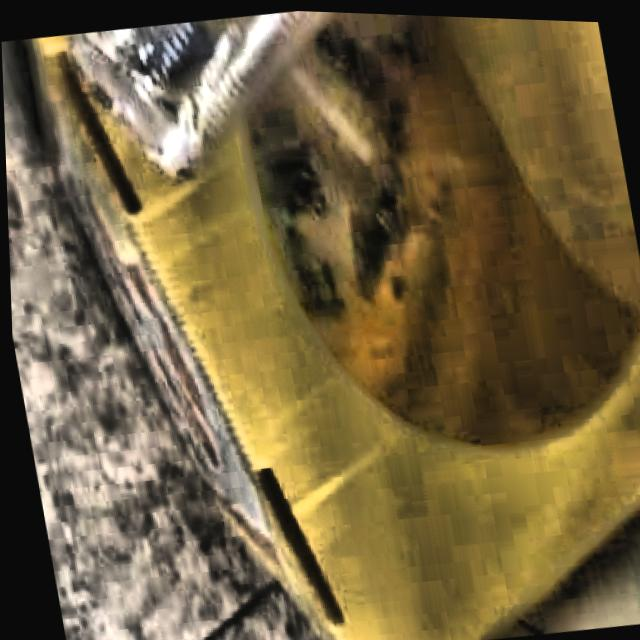plastic: (66, 9, 327, 172)
